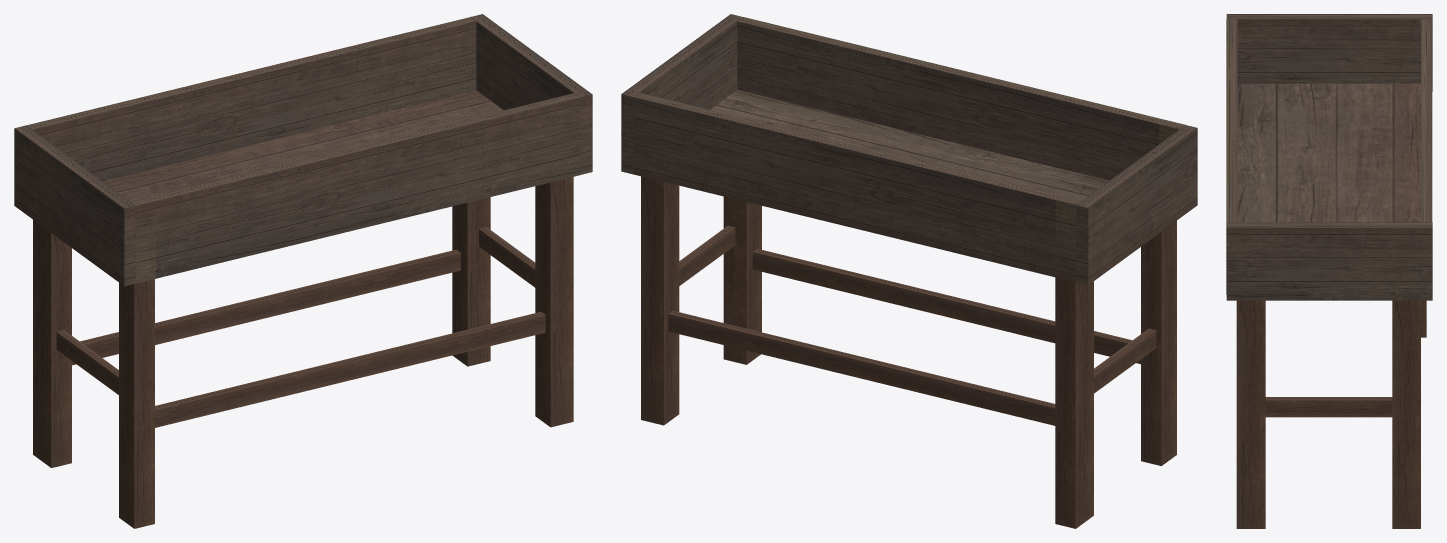
The model's file is jov_sink1.fbx.
3 views of the same model, side by side, from view 1: azimuth 30°, elevation 25°; view 2: azimuth 150°, elevation 25°; view 3: azimuth 270°, elevation 25° (orthographic). The views are drawn at different scales.
Visible parts, largest first — view 1: jov_sink1; view 2: jov_sink1; view 3: jov_sink1.
Boxes of the visible parts, x1,y1,x2,y2 form: jov_sink1: [14, 14, 592, 528]; jov_sink1: [621, 14, 1197, 528]; jov_sink1: [1226, 14, 1432, 528].
Bounding box in the file's own units: 155 × 104 × 63.13.
